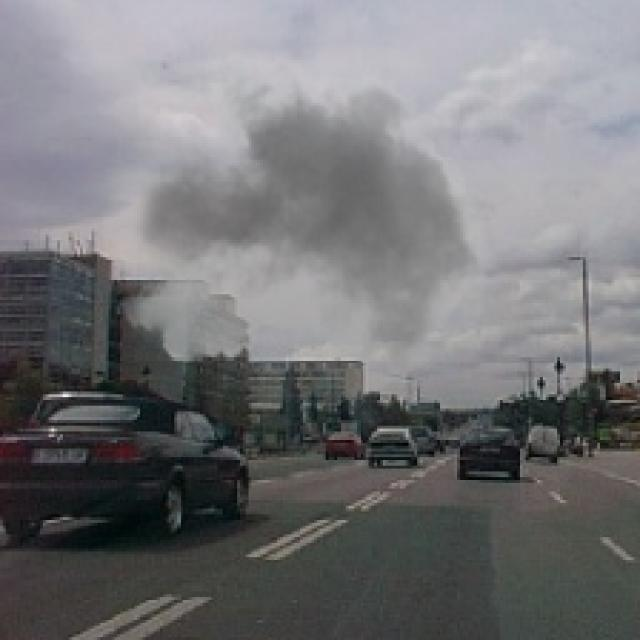smoke: (100, 34, 511, 446)
